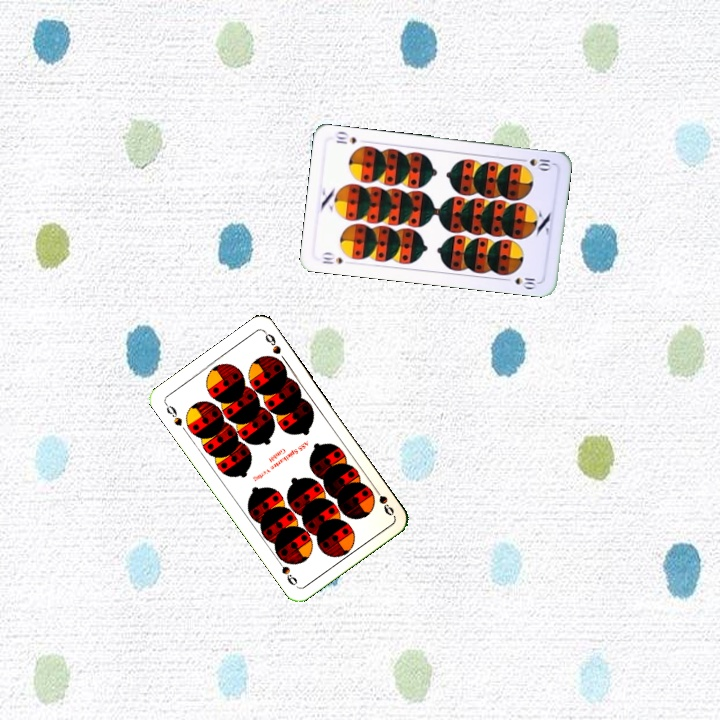S10: (515, 154, 554, 172), (318, 248, 345, 267)
S9: (369, 482, 397, 518), (161, 399, 185, 428)
